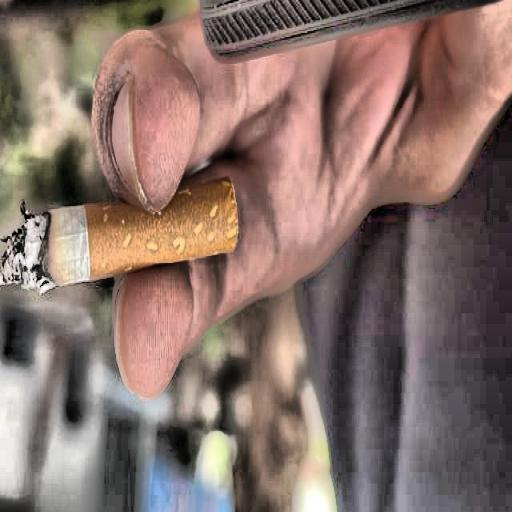Merokok: (0, 178, 240, 292)
